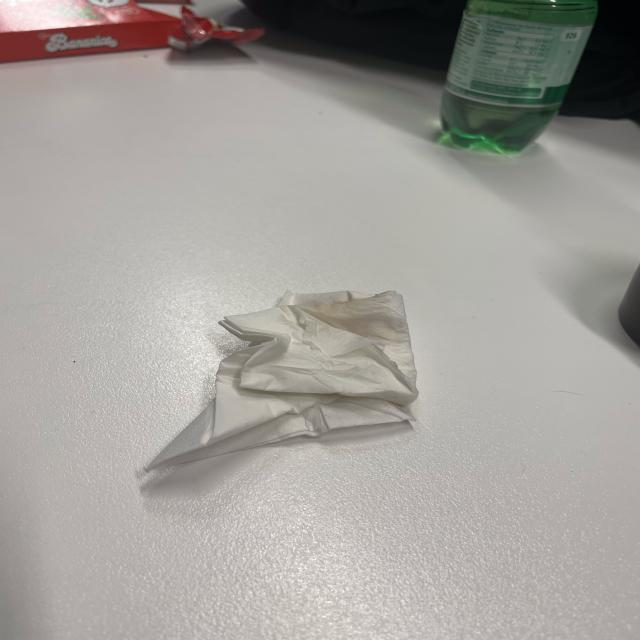kitchen paper: (133, 289, 419, 476)
